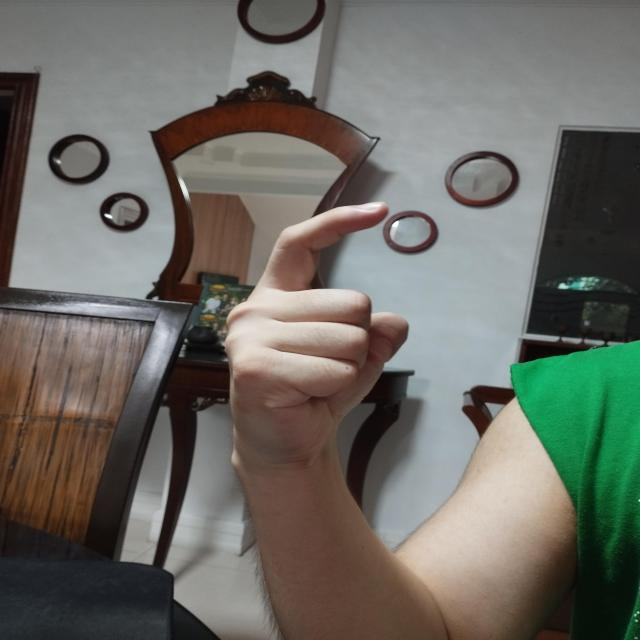X: (222, 199, 411, 466)
